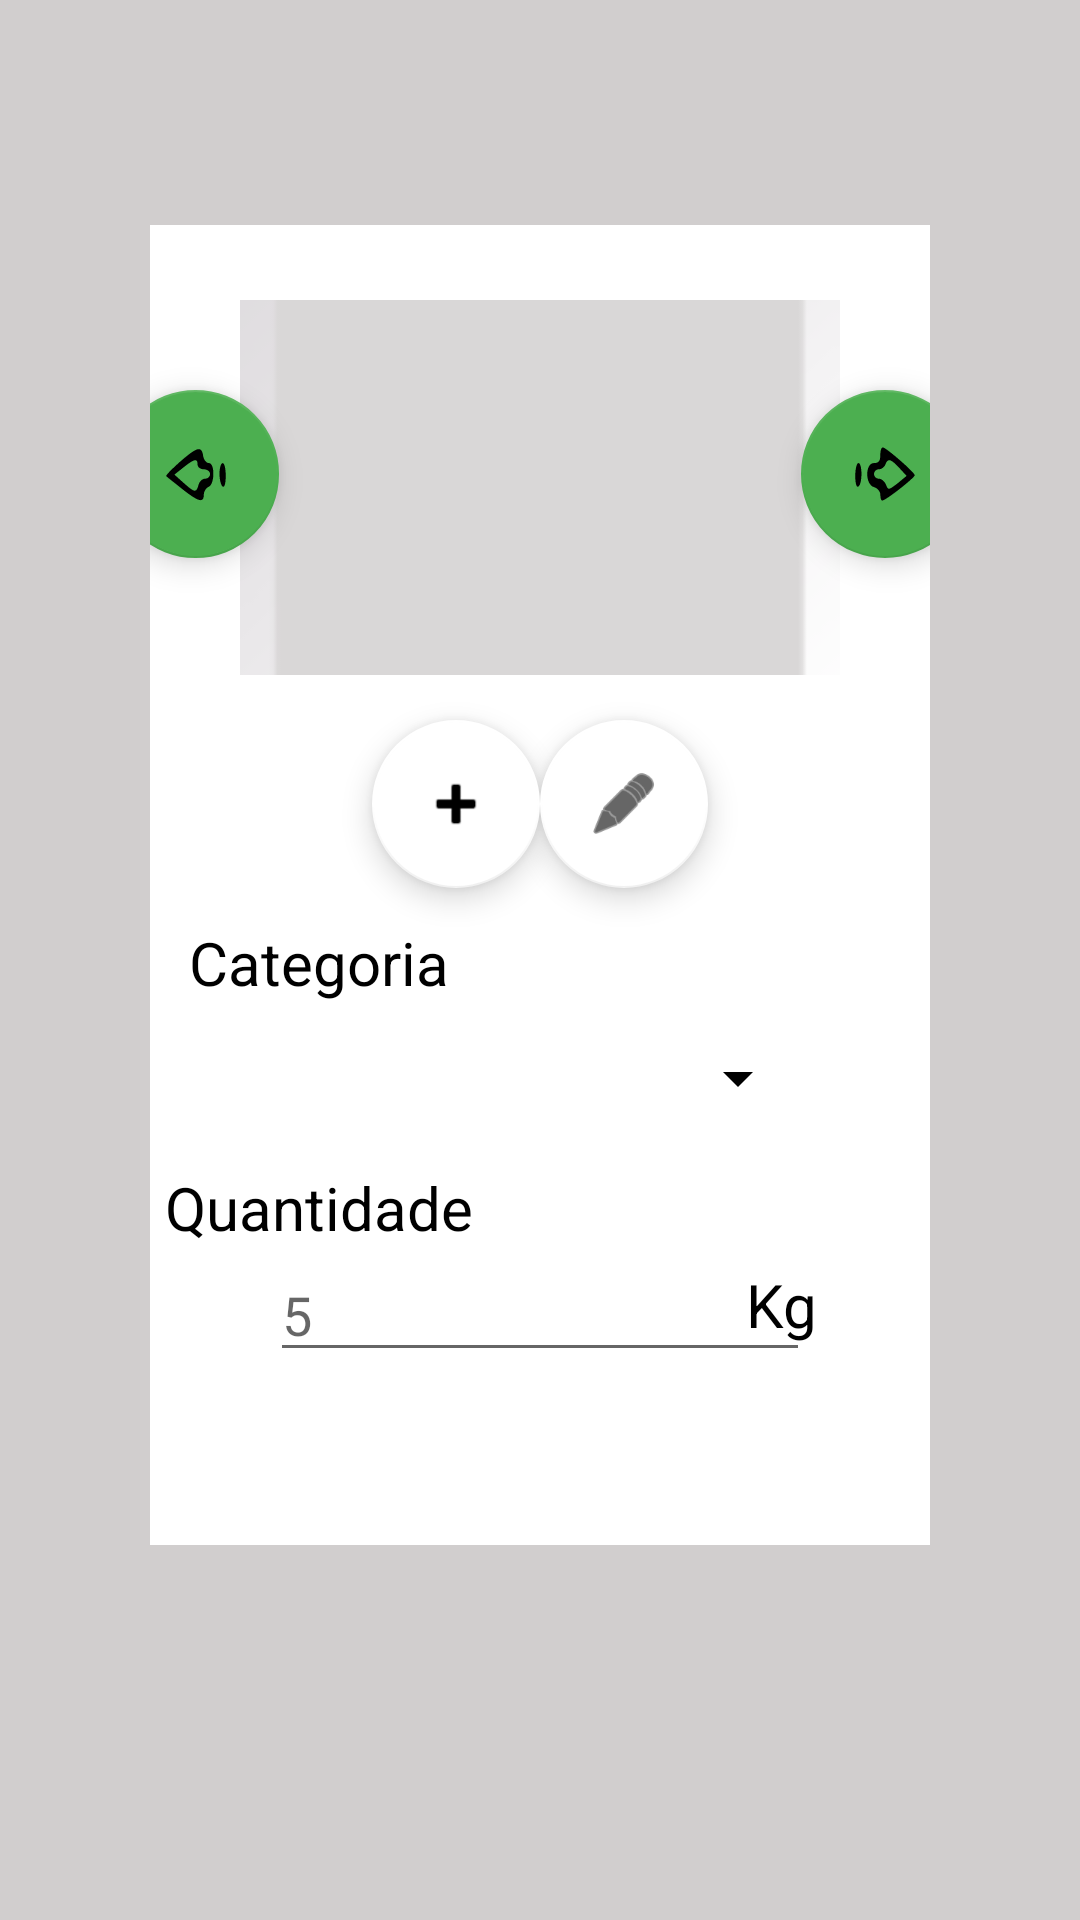

Icon bounding boxes for this 1080*1920 phone screenshot, format (x1, y1, x2, y2):
add: (372, 777, 540, 824)
edit: (540, 773, 708, 834)
